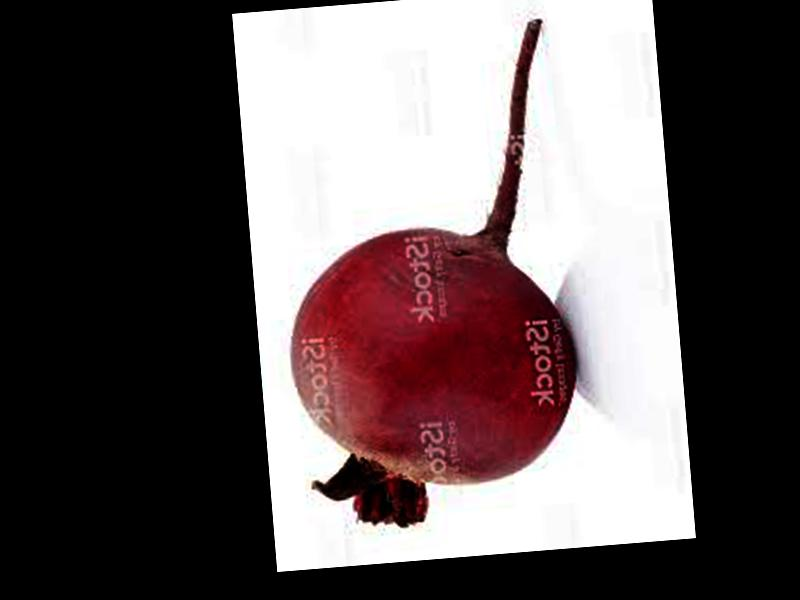Beet: (267, 20, 587, 533)
